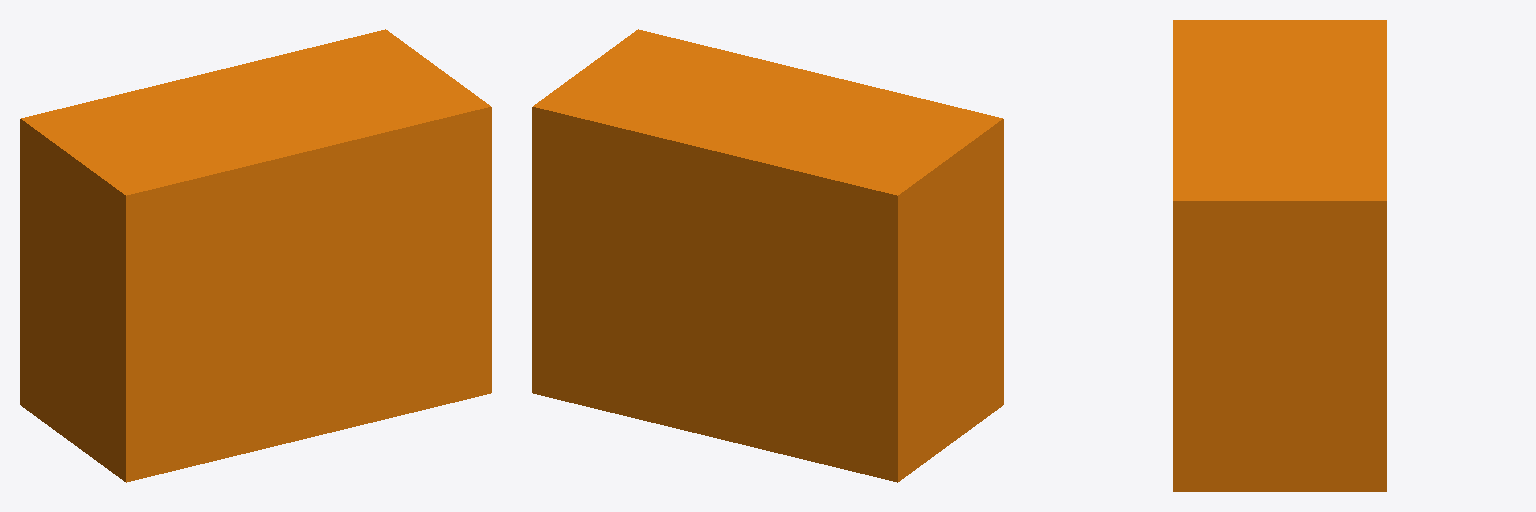
The robot description file, URDF, robot "rectangular_box":
<?xml version='1.0' encoding='UTF-8'?>
<robot name="rectangular_box">
  <link name="base_link">
    <inertial>
      <origin xyz="0.0 0.0 0.0" rpy="0.0 -0.0 0.0"/>
      <mass value="1.0"/>
      <inertia ixx="1.0" ixy="0.0" ixz="0.0" iyy="1.0" iyz="0.0" izz="1.0"/>
    </inertial>
    <visual name="base_link_visual">
      <geometry>
        <box size="0.636 0.318 0.477"/>
      </geometry>
      <origin xyz="0 0 0" rpy="0 0 0"/>
      <material name="object_color">
        <color rgba="0.95 0.55 0.1 1"/>
      </material>
    </visual>
    <collision name="base_link_collision">
      <geometry>
        <box size="0.636 0.318 0.477"/>
      </geometry>
      <origin xyz="0 0 0" rpy="0 0 0"/>
    </collision>
  </link>
</robot> 

--- Render facts (derived) ---
The picture shows the robot from 3 angles, left to right: view 1: azimuth 30°, elevation 25°; view 2: azimuth 150°, elevation 25°; view 3: azimuth 270°, elevation 25°; orthographic projection.
Robot: rectangular_box — 1 links, 0 joints (none); root link base_link; default pose: every joint at zero.
Links seen in each view (by area): view 1: base_link; view 2: base_link; view 3: base_link.
Link boxes in pixels (left/top/right/bottom): base_link: left=20, top=29, right=491, bottom=482; base_link: left=532, top=29, right=1003, bottom=482; base_link: left=1173, top=20, right=1386, bottom=491.
Size in the robot's own frame: 0.636 by 0.318 by 0.477 metres.
Geometry: primitives only (box / cylinder / sphere), no mesh files.
